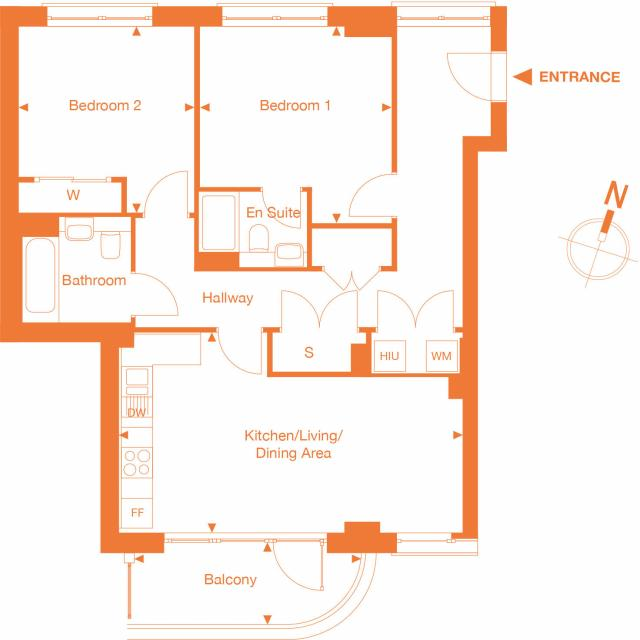DOOR: (446, 52, 508, 102), (272, 539, 324, 591), (349, 171, 397, 217), (218, 326, 263, 375), (143, 170, 188, 219), (130, 272, 179, 316), (262, 188, 302, 229)
DOUBLE DOOR: (377, 289, 454, 333), (281, 290, 358, 333)
ROOM: (101, 322, 478, 592), (0, 3, 199, 236), (194, 2, 397, 229)
WINDOW: (392, 1, 496, 28), (42, 3, 158, 27), (217, 3, 333, 27), (391, 531, 479, 557)
